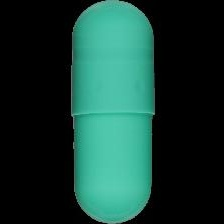67544-564: (0, 0, 224, 224)
